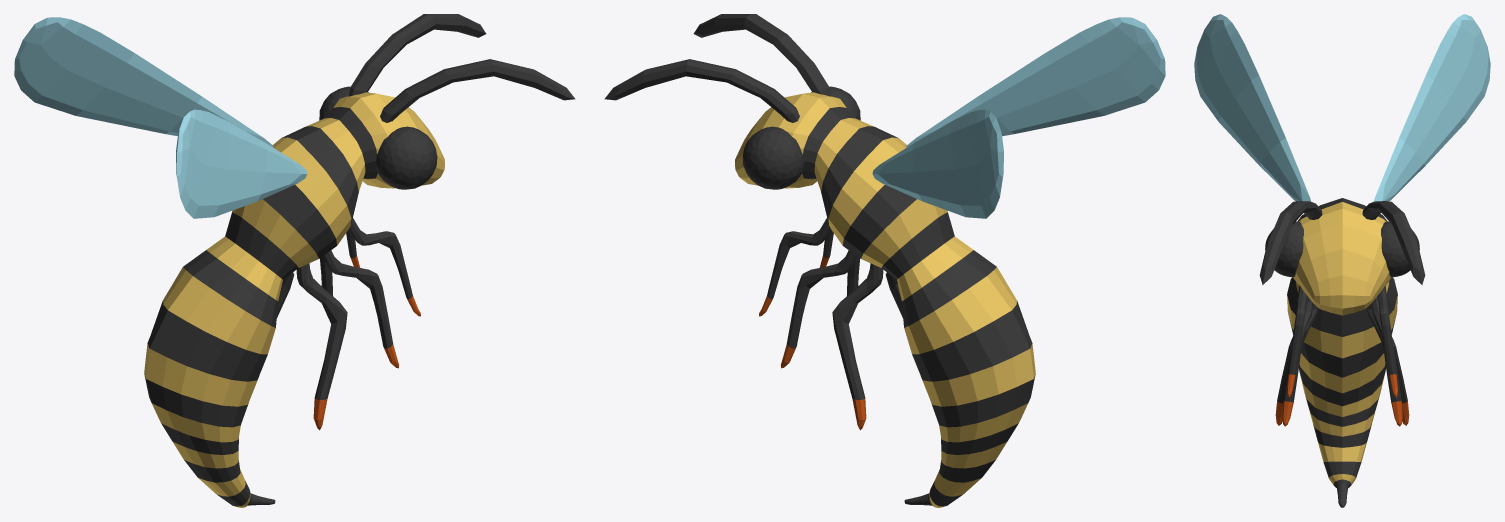
File: E_Wasp.glb
3 views of the same model, side by side, from view 1: azimuth 30°, elevation 25°; view 2: azimuth 150°, elevation 25°; view 3: azimuth 270°, elevation 25° (orthographic). The views are drawn at different scales.
Parts seen in each view (by area): view 1: SK_Wasp; view 2: SK_Wasp; view 3: SK_Wasp.
Boxes of the visible parts, x1,y1,x2,y2 form: SK_Wasp: (14, 14, 575, 507); SK_Wasp: (604, 14, 1165, 507); SK_Wasp: (1194, 14, 1490, 507).
Size of the model in its own units: 3.62 by 3.78 by 2.39.
